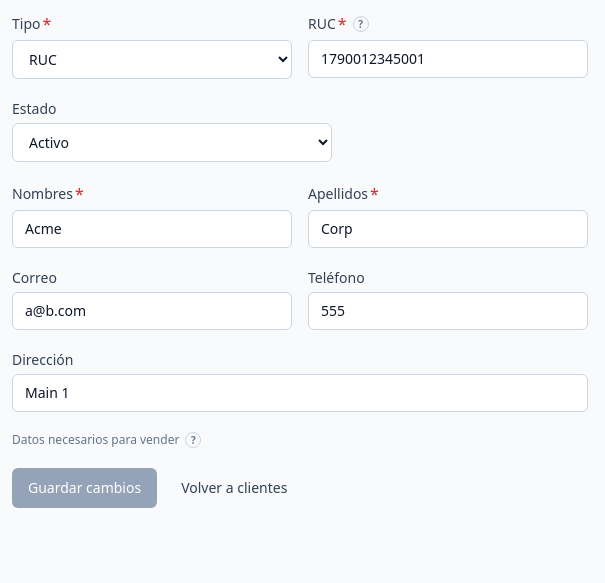
Test: CustomerForm › PATCHes only the changed fields on edit
The width and height of the screenshot is (605, 583).
Replace the text in the field labelled "Teléfono" with "999" at (448, 311), box [308, 292, 588, 330]
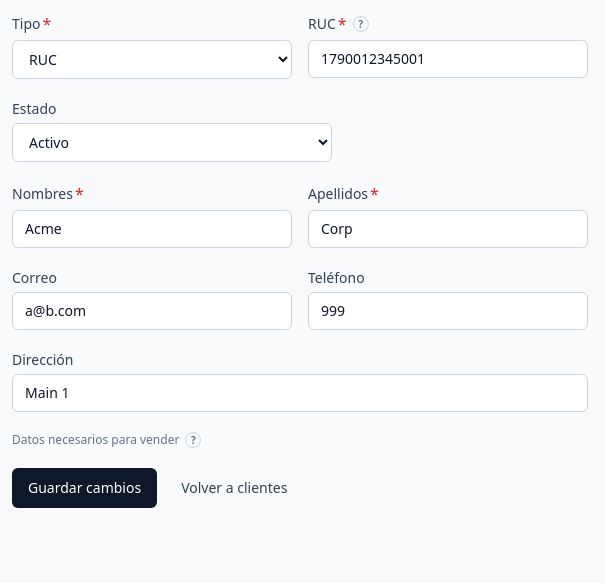
Click the button "Guardar cambios" at (85, 488), box [12, 468, 157, 508]
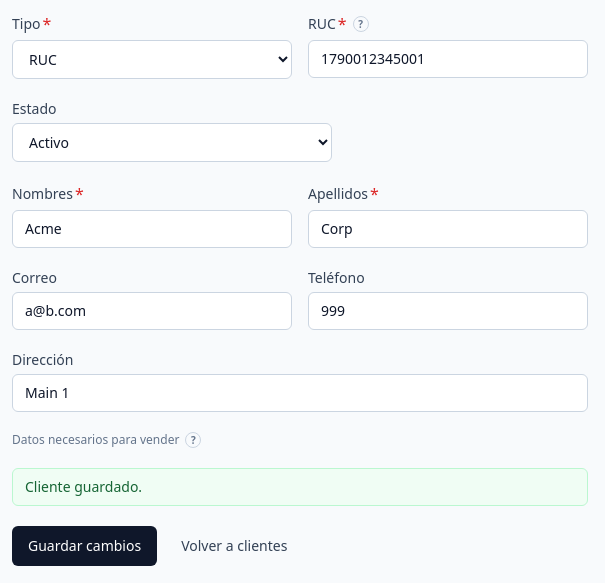
Expected: the text "Cliente guardado." is shown, [25, 477, 142, 496]
